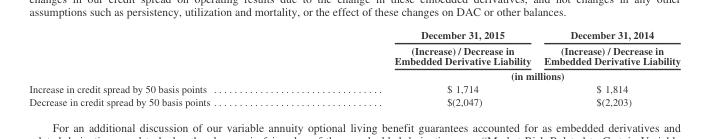table: (28, 28, 679, 107)
table column: (28, 28, 301, 107), (301, 28, 536, 107), (536, 28, 679, 107)
table column header: (28, 28, 679, 82)
table row: (28, 28, 679, 68), (28, 68, 679, 82), (28, 82, 679, 95), (28, 95, 679, 107)
table spanning cell: (301, 68, 679, 82)
